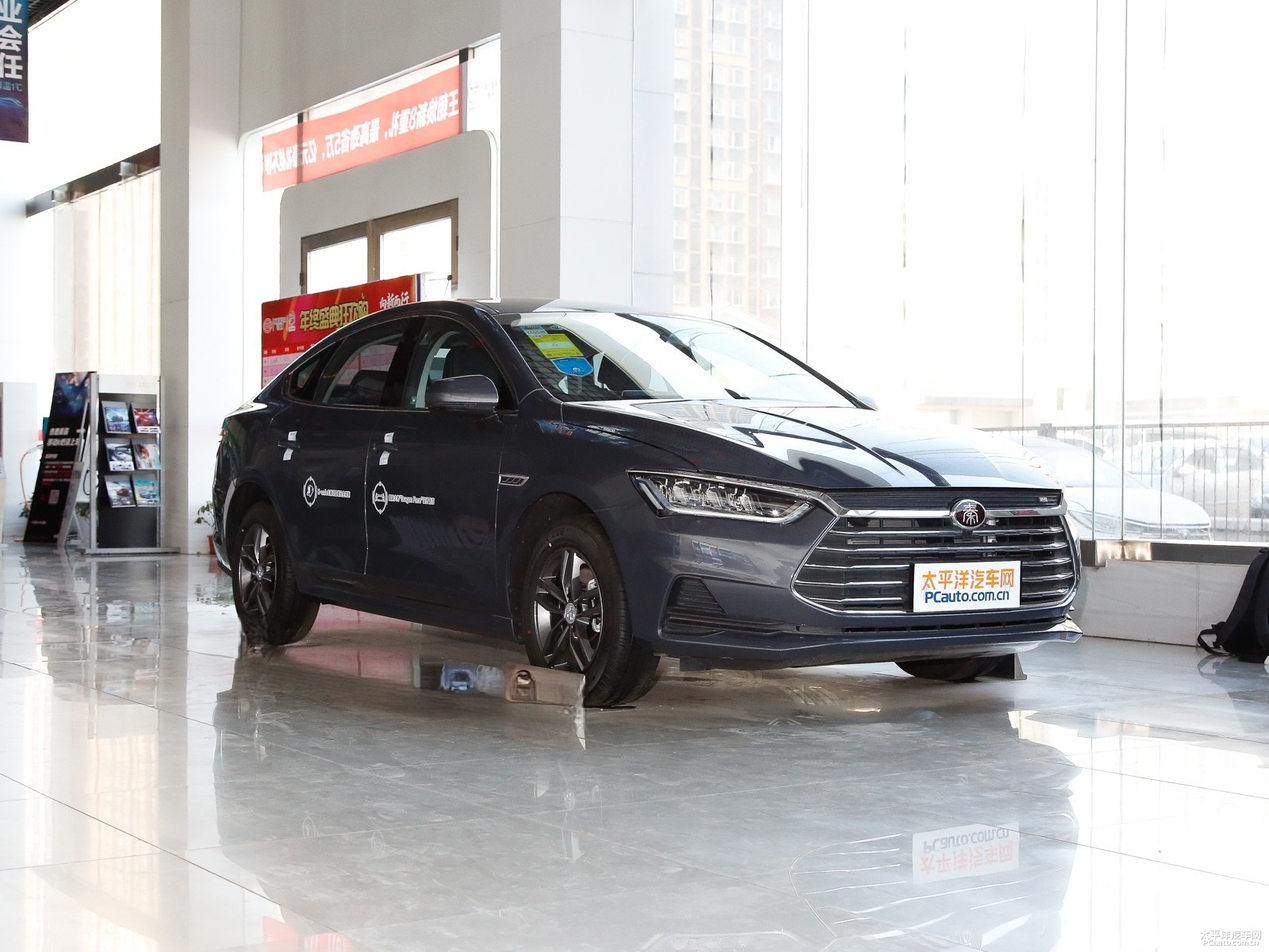BYD Qin: (953, 500, 986, 529)
